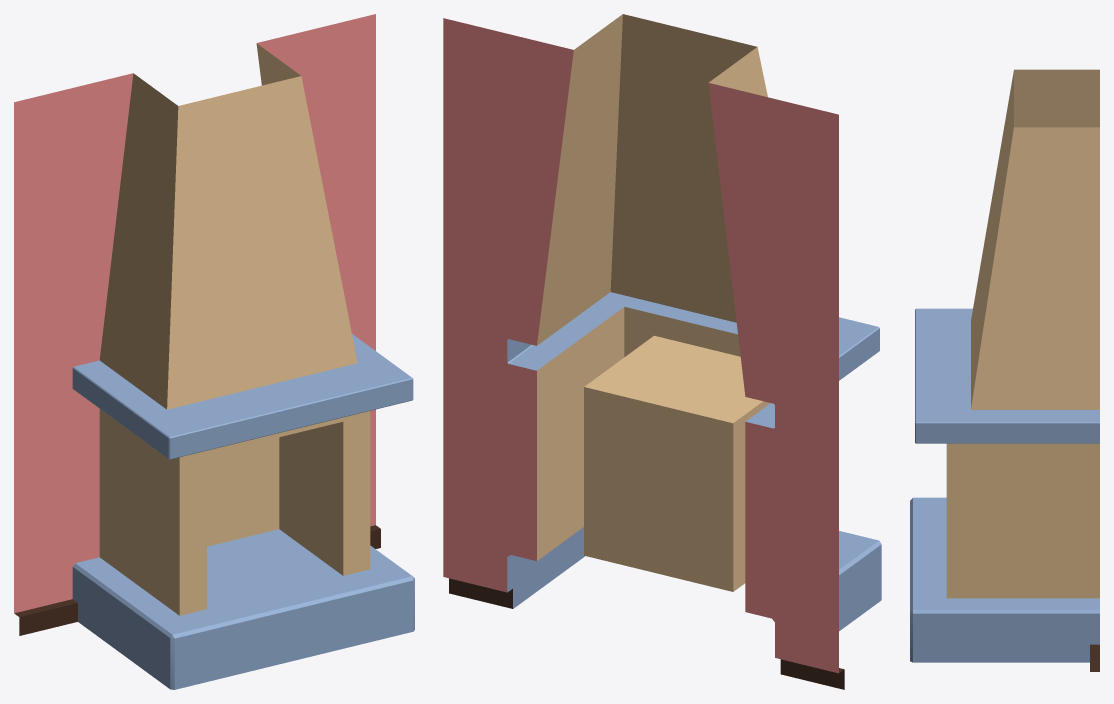
File: SM_Cheminee.fbx
3 renders of one model, left to right at view 1: azimuth 30°, elevation 25°; view 2: azimuth 150°, elevation 25°; view 3: azimuth 270°, elevation 25°, orthographic. The views are drawn at different scales.
Parts seen in each view (by area): view 1: SM_Cheminee; view 2: SM_Cheminee; view 3: SM_Cheminee.
Boxes of the visible parts, x1,y1,x2,y2 form: SM_Cheminee: (14,14,414,689); SM_Cheminee: (443,14,881,689); SM_Cheminee: (910,69,1099,671).
Bounding box in the file's own units: 2 × 2.8 × 0.95.
